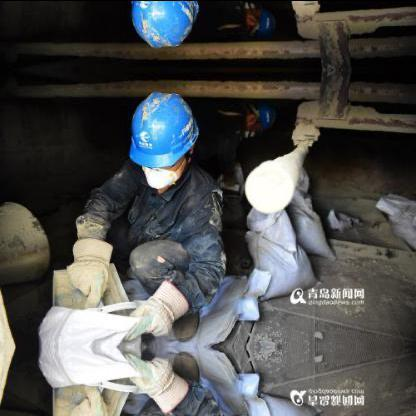Helmet: (122, 82, 206, 192), (121, 0, 207, 55), (235, 98, 279, 136)
